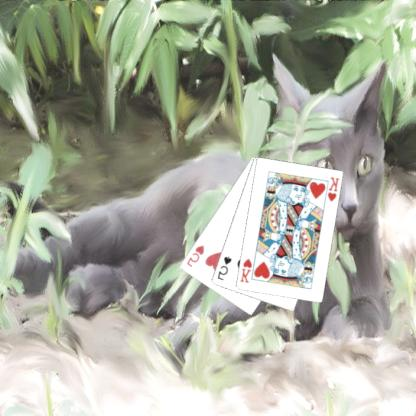5H: (185, 243, 207, 268)
5S: (216, 253, 235, 282)
KH: (326, 174, 342, 204), (239, 256, 255, 284)
